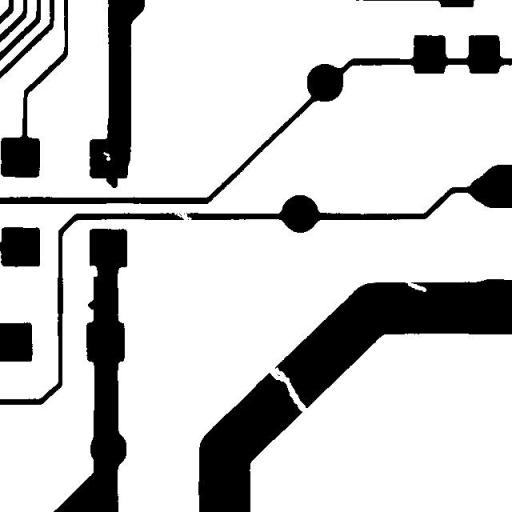mousebite: (396, 271, 434, 299), (82, 258, 105, 284)
open: (260, 358, 314, 420), (165, 202, 199, 230)
pin-hole: (95, 144, 118, 168)
spur: (96, 164, 126, 195), (80, 292, 105, 317)
